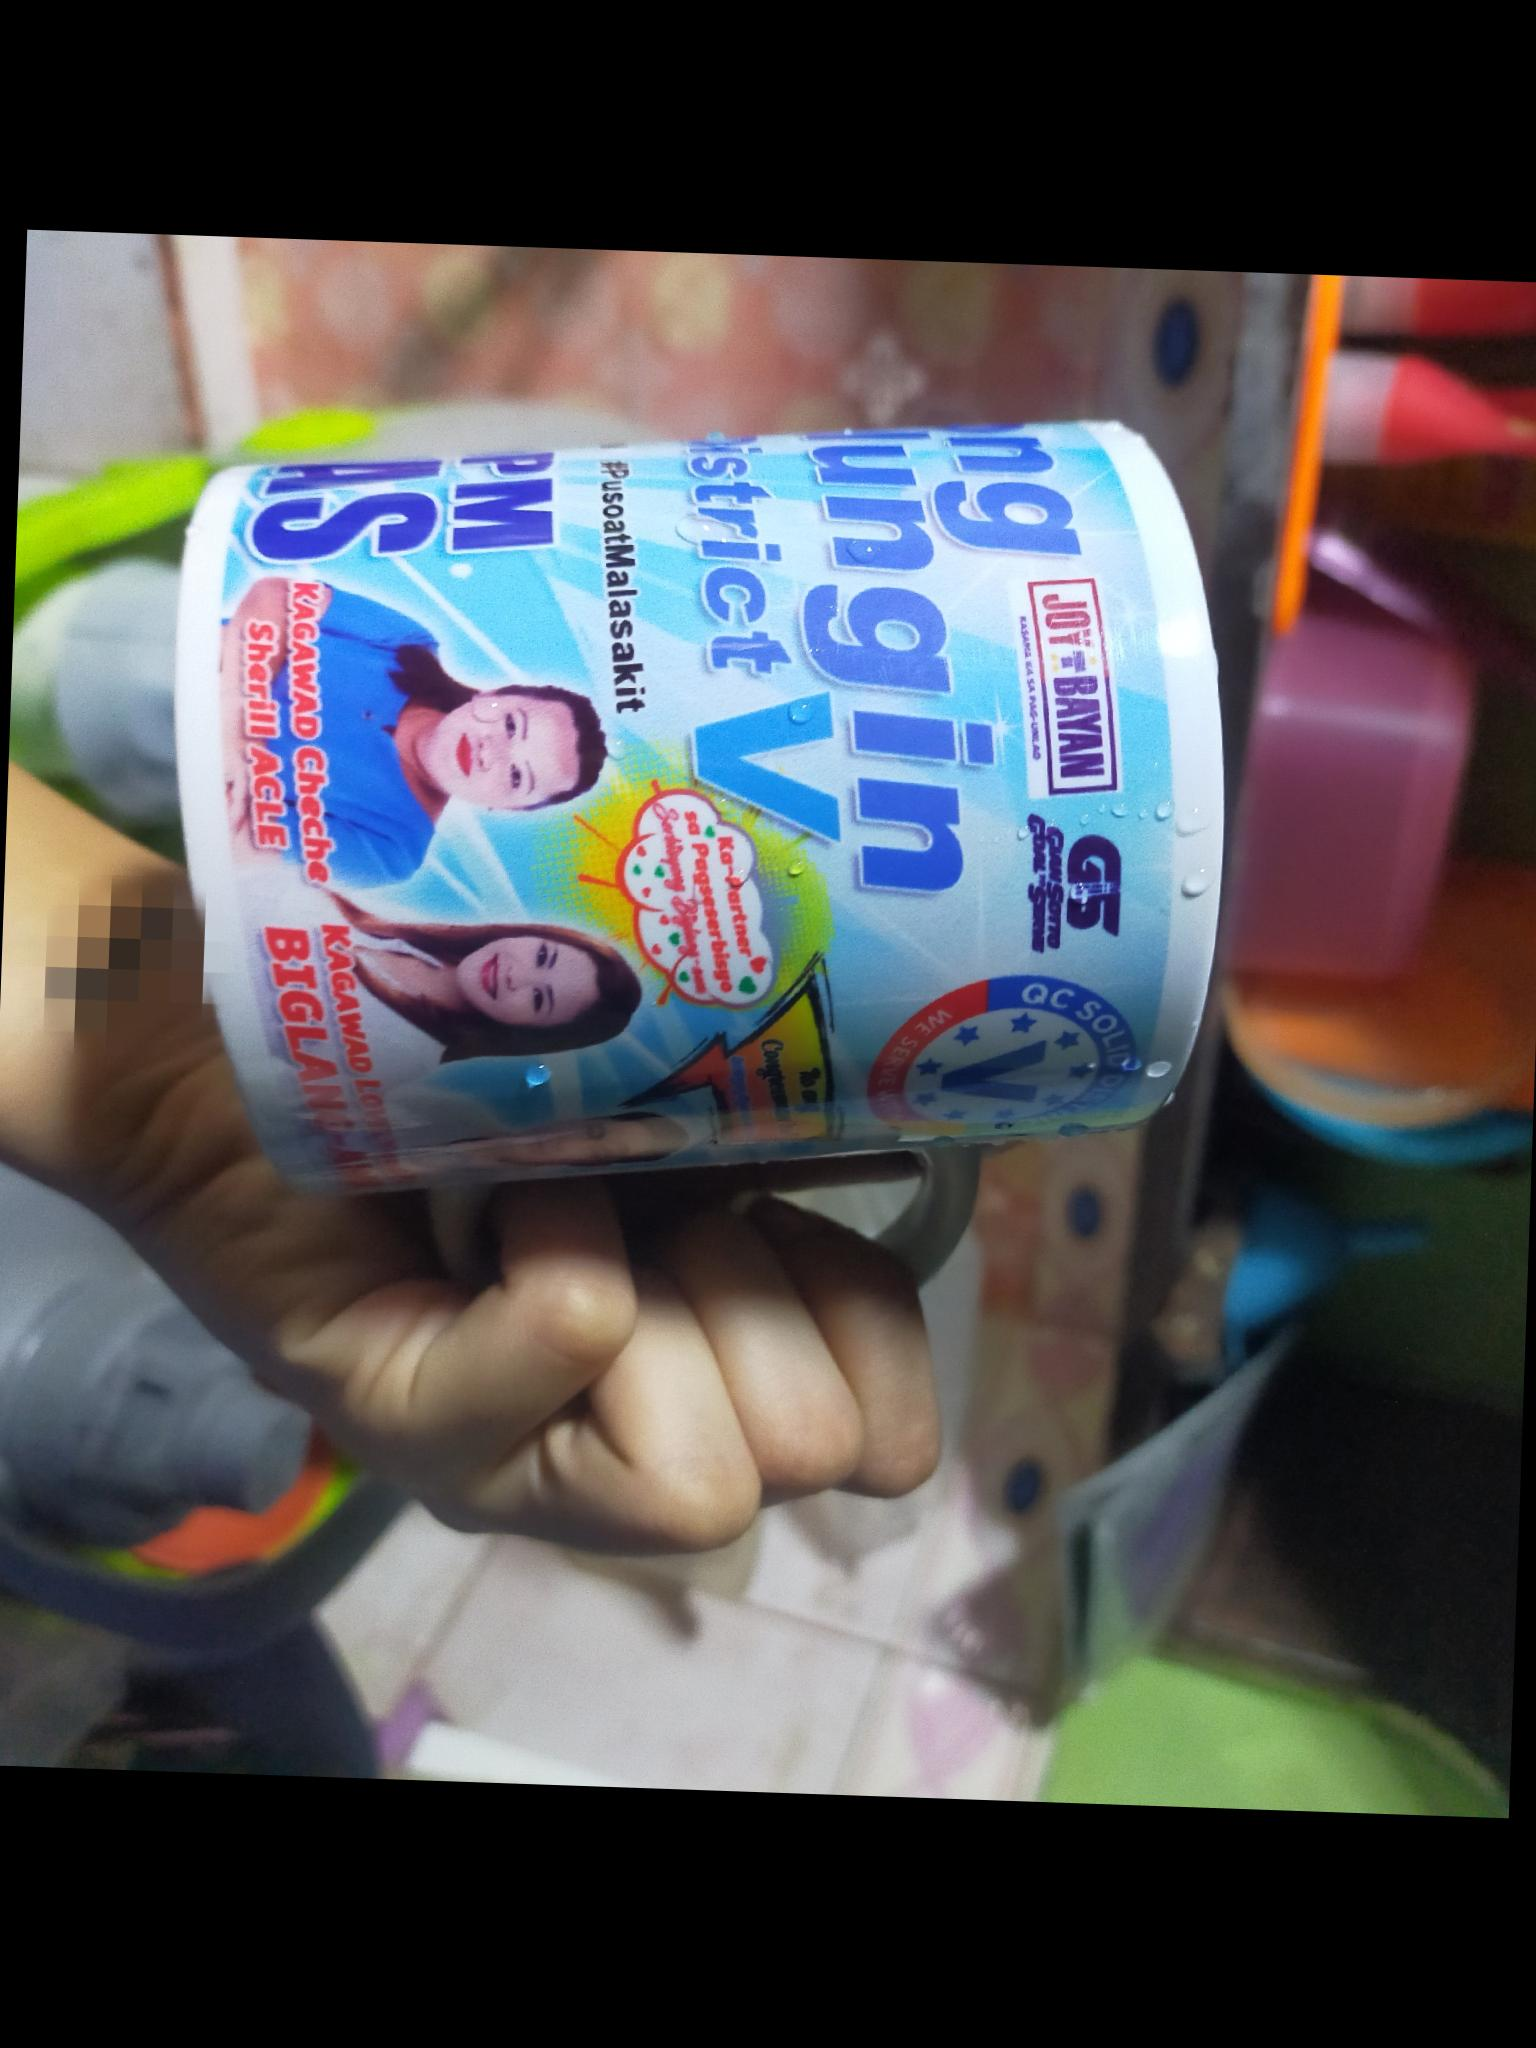Coffee Mug: (148, 382, 1238, 1314)
